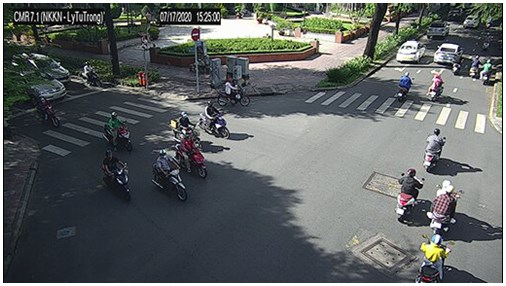xe_hoi: (14, 54, 71, 82), (14, 71, 68, 97), (434, 43, 464, 65), (427, 20, 450, 38), (446, 7, 464, 21), (463, 16, 479, 29)
xe_may: (426, 181, 464, 234), (415, 234, 452, 283), (153, 150, 187, 201), (101, 150, 132, 201), (396, 169, 425, 221), (175, 136, 207, 179), (197, 100, 231, 140), (169, 112, 204, 149), (103, 112, 135, 151), (423, 127, 446, 173), (217, 77, 251, 107), (37, 97, 61, 127), (80, 61, 103, 88), (396, 71, 415, 101), (427, 74, 445, 103), (451, 50, 464, 77), (481, 59, 493, 83), (468, 55, 480, 77), (482, 31, 492, 51)
xe_taxi: (397, 40, 426, 62)
